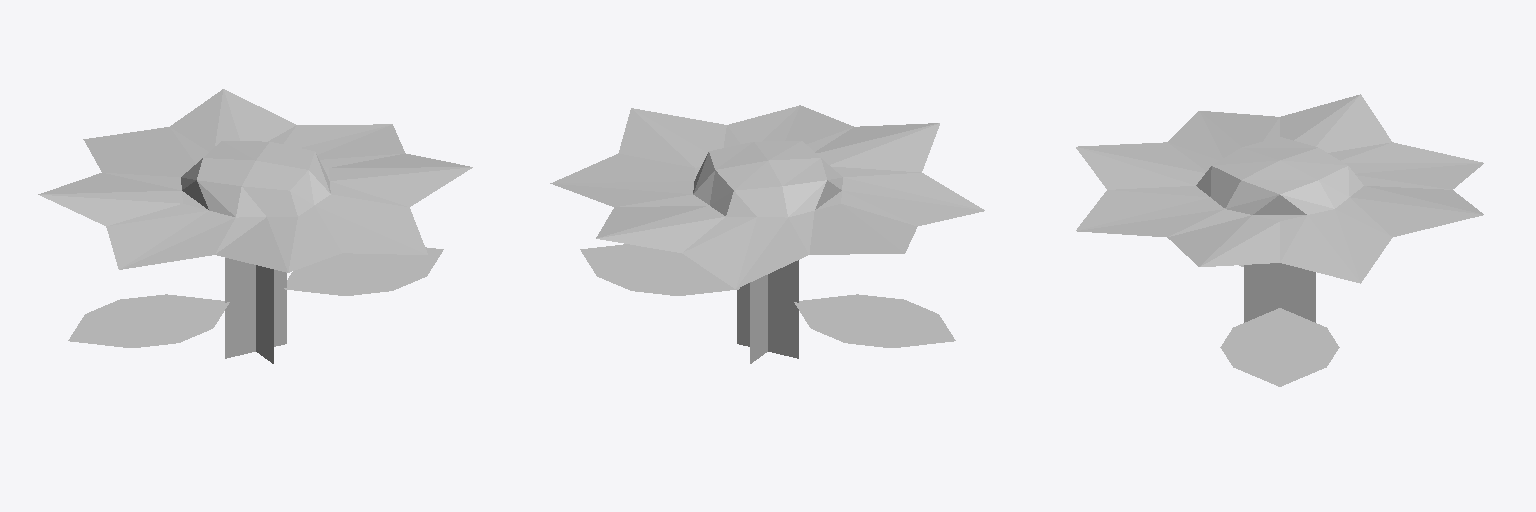
File: flower1.obj
The picture shows the model from 3 angles: view 1: azimuth 30°, elevation 25°; view 2: azimuth 150°, elevation 25°; view 3: azimuth 270°, elevation 25°; orthographic projection.
Visible parts, largest first — view 1: flower, leaves, bud, stem; view 2: flower, leaves, bud, stem; view 3: flower, bud, leaves, stem.
Boxes of the visible parts, x1=… form: flower: x1=38, y1=89, x2=472, y2=272; leaves: x1=68, y1=247, x2=443, y2=347; bud: x1=181, y1=141, x2=330, y2=217; stem: x1=225, y1=258, x2=286, y2=363; flower: x1=550, y1=105, x2=984, y2=288; leaves: x1=580, y1=244, x2=955, y2=347; bud: x1=693, y1=141, x2=842, y2=217; stem: x1=737, y1=260, x2=798, y2=363; flower: x1=1076, y1=94, x2=1483, y2=283; bud: x1=1196, y1=137, x2=1363, y2=220; leaves: x1=1220, y1=265, x2=1339, y2=386; stem: x1=1244, y1=263, x2=1315, y2=322.
Size of the model in its own units: 1.14 by 0.5514 by 1.07.